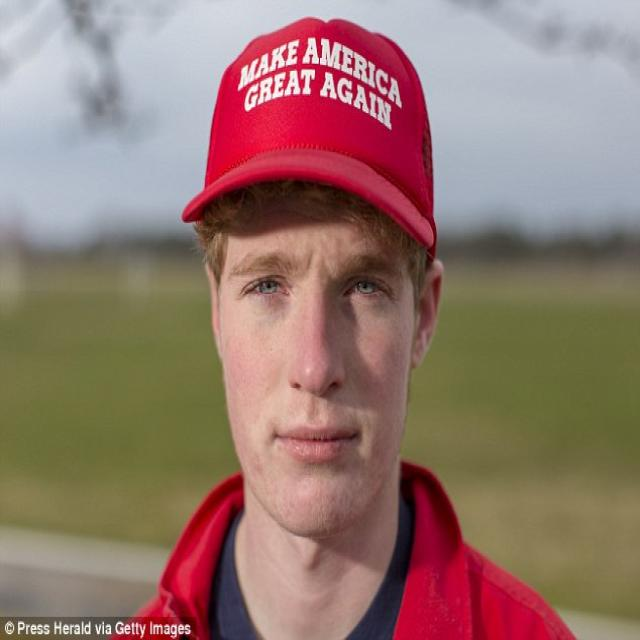3_gorra: (182, 19, 438, 254)
